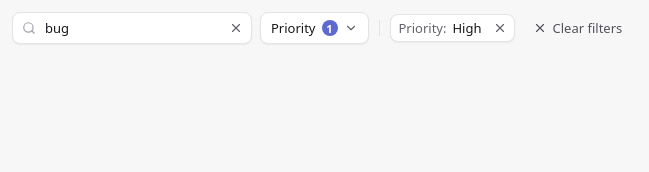
it: FilterBar › "Clear filters" clears search and every group in one step
Click the button "Clear filters".
click(577, 28)  # box [522,14,632,42]
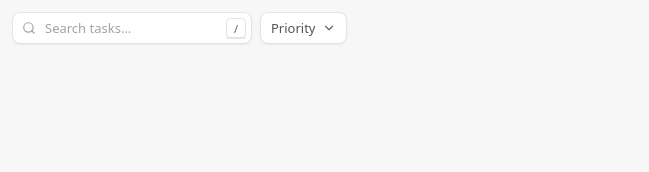
Result: the button "Clear filters" is gone
